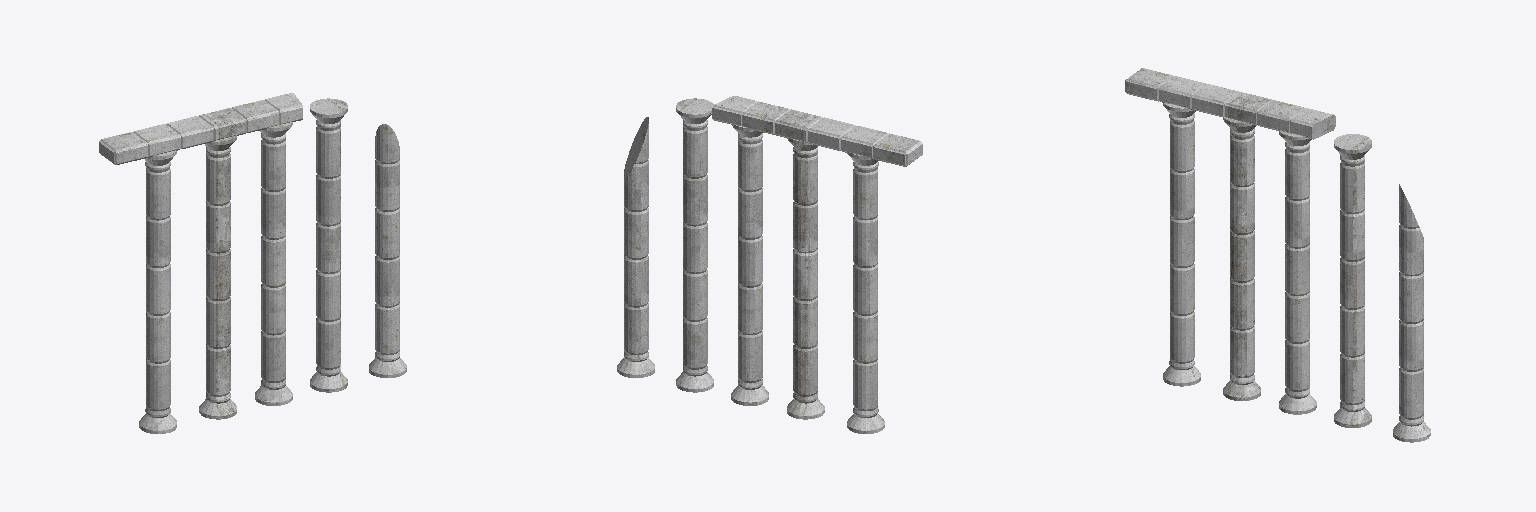
3 views of the same model, side by side, from view 1: azimuth 30°, elevation 25°; view 2: azimuth 150°, elevation 25°; view 3: azimuth 330°, elevation 25° (orthographic).
Visible parts, largest first — view 1: Cylinder002, Cylinder005, Cylinder003, Cylinder004, Cylinder001, Box003; view 2: Cylinder002, Cylinder005, Cylinder004, Cylinder003, Cylinder001, Box003; view 3: Cylinder002, Cylinder003, Cylinder004, Cylinder005, Cylinder001, Box003.
Boxes of the visible parts, x1,y1,x2,y2 form: Cylinder002: [310, 98, 347, 392]; Cylinder005: [255, 122, 292, 405]; Cylinder003: [139, 150, 176, 433]; Cylinder004: [199, 135, 236, 419]; Cylinder001: [369, 124, 406, 377]; Box003: [99, 93, 302, 164]; Cylinder002: [676, 98, 713, 392]; Cylinder005: [731, 125, 768, 405]; Cylinder004: [787, 138, 824, 419]; Cylinder003: [847, 153, 884, 433]; Cylinder001: [617, 117, 654, 377]; Box003: [712, 96, 922, 166]; Cylinder002: [1334, 134, 1371, 427]; Cylinder003: [1163, 102, 1200, 386]; Cylinder004: [1223, 117, 1260, 400]; Cylinder005: [1279, 131, 1316, 414]; Cylinder001: [1393, 184, 1430, 442]; Box003: [1125, 68, 1335, 139].
Size of the model in its own units: 78.14 by 73.55 by 8.72.
Materials: 1 (1 with a texture image).